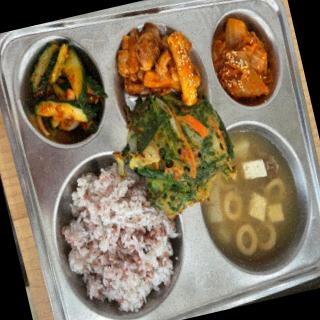Nasi: (48, 152, 168, 320)
